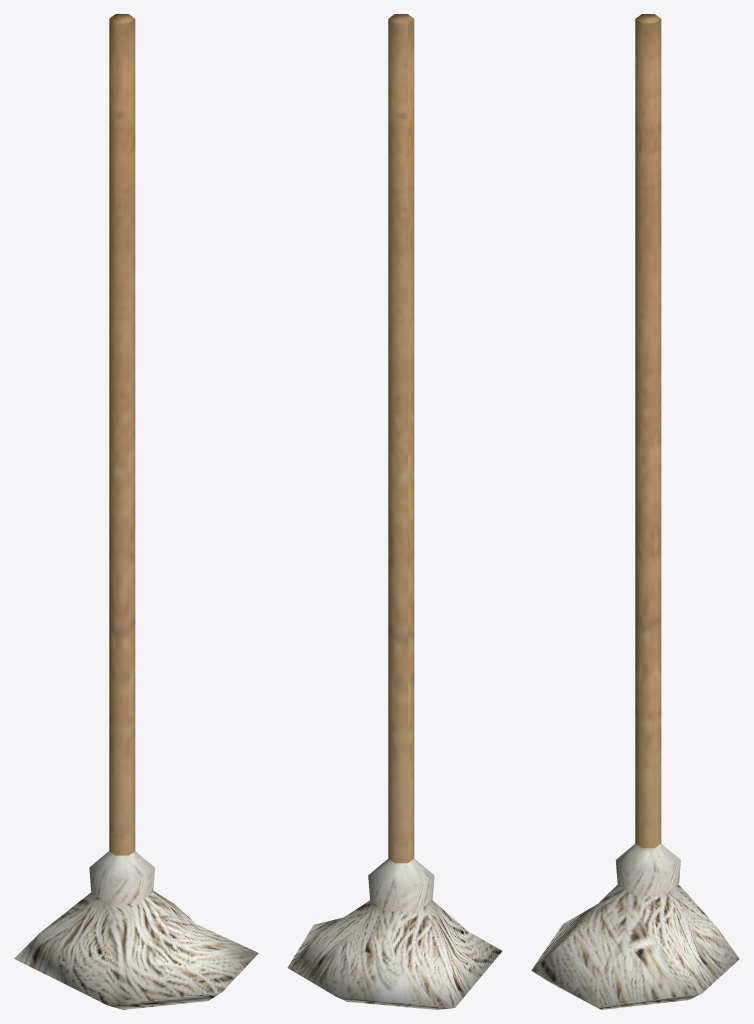
File: Mop.fbx
3 views of the same model, side by side, from view 1: azimuth 30°, elevation 25°; view 2: azimuth 150°, elevation 25°; view 3: azimuth 270°, elevation 25° (orthographic).
Visible parts, largest first — view 1: Mop; view 2: Mop; view 3: Mop.
Part boxes in pixels (x1,y1,x2,y2): Mop: (14,14,258,1009); Mop: (287,14,502,1009); Mop: (531,14,739,1009).
Bounding box in the file's own units: 34.41 × 163 × 32.55.
